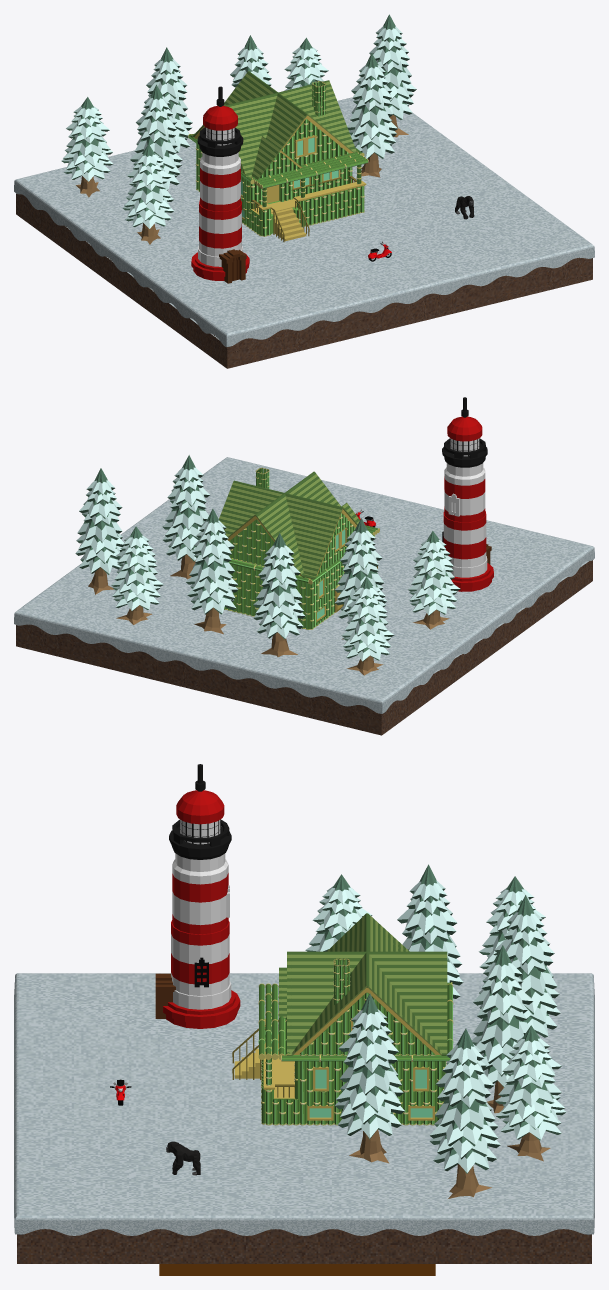
3 renders of one model, top to bottom at view 1: azimuth 30°, elevation 25°; view 2: azimuth 150°, elevation 25°; view 3: azimuth 270°, elevation 25°, orthographic. The views are drawn at different scales.
Visible parts, largest first — view 1: Cube.003, Cube.1327, OBJRANDOM_LIGHTHOUSE; view 2: Cube.003, Cube.1327, OBJRANDOM_LIGHTHOUSE; view 3: Cube.003, Cube.1327, OBJRANDOM_LIGHTHOUSE, UNDERGROUND_ART_PIECE_VAN_GOGH, ANIMAL_GORILA.
Boxes of the visible parts, x1,y1,x2,y2 form: Cube.003: (14,14,594,368); Cube.1327: (188,71,368,242); OBJRANDOM_LIGHTHOUSE: (191,86,249,283); Cube.003: (14,455,594,735); Cube.1327: (219,467,379,629); OBJRANDOM_LIGHTHOUSE: (442,397,493,591); Cube.003: (14,864,594,1263); Cube.1327: (232,913,453,1125); OBJRANDOM_LIGHTHOUSE: (155,764,240,1028); UNDERGROUND_ART_PIECE_VAN_GOGH: (159,1264,435,1275); ANIMAL_GORILA: (166,1141,200,1175).
Size of the model in its own units: 4040 by 2476 by 4040.
Materials: 31 (5 with a texture image).
